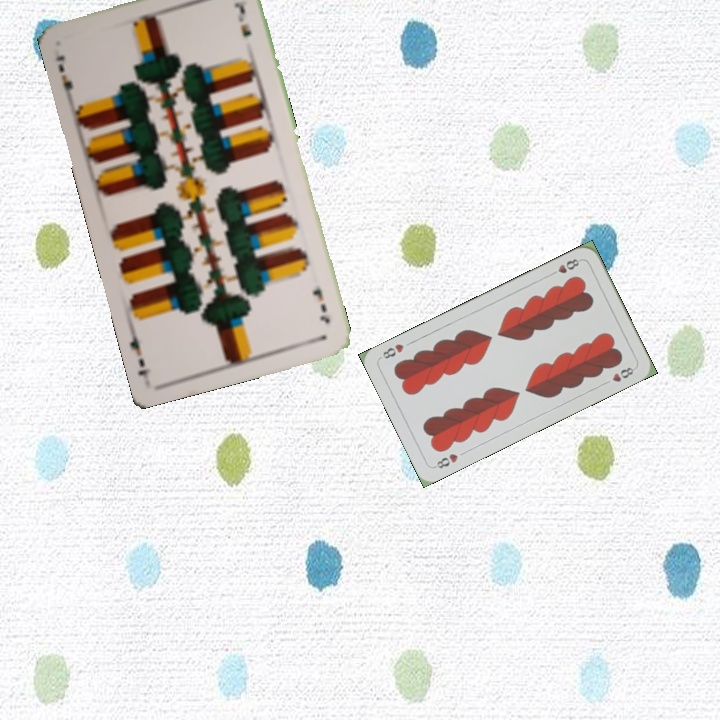E7: (51, 50, 76, 102), (308, 283, 333, 326)
H8: (546, 255, 584, 279), (430, 449, 461, 471)
